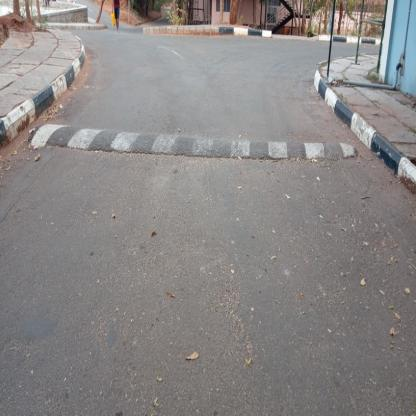speed-bumps: (22, 113, 374, 171)
